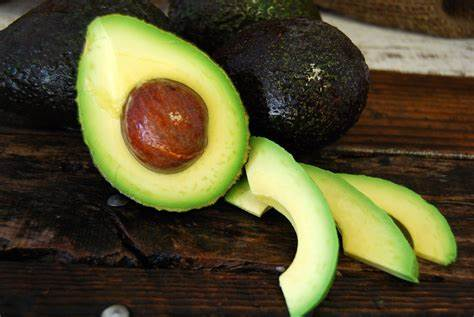Avacado: (73, 5, 249, 221), (226, 14, 380, 159), (0, 0, 104, 107)
